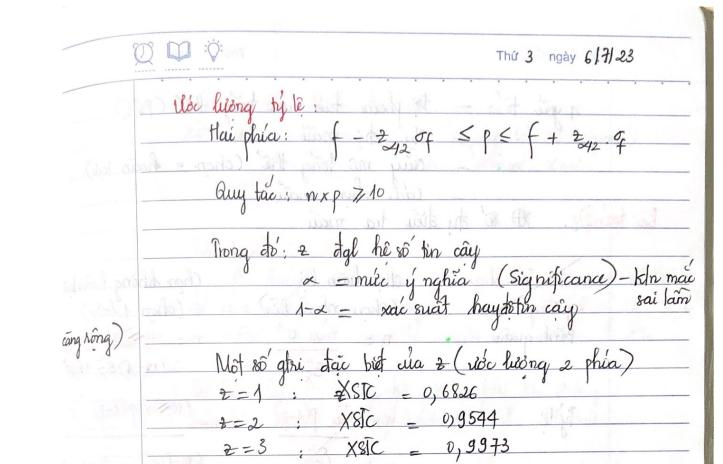text: (211, 343, 635, 387), (301, 256, 698, 302), (331, 120, 629, 164), (208, 229, 481, 276), (293, 290, 582, 332), (213, 173, 387, 217), (171, 88, 307, 125), (336, 406, 502, 433), (332, 379, 480, 407), (206, 121, 282, 164), (494, 45, 636, 67), (60, 319, 125, 361), (635, 286, 693, 308), (216, 381, 264, 405), (220, 436, 268, 459), (218, 415, 265, 433)
